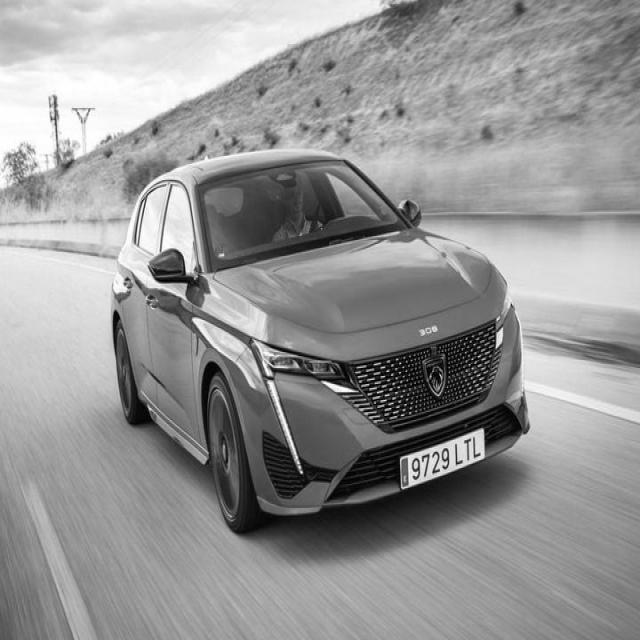License-Plate: (399, 427, 486, 499)
